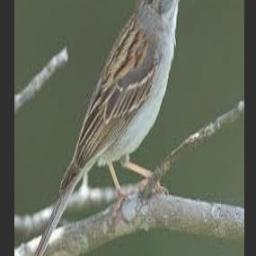Sparrow: (27, 0, 194, 256)
